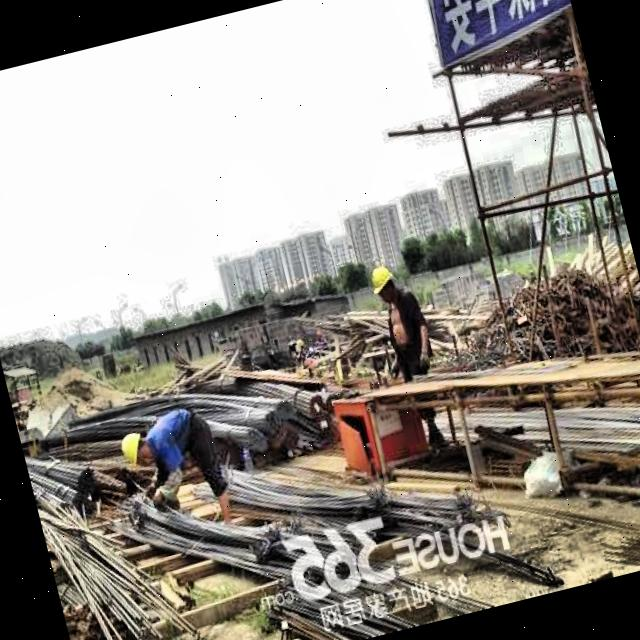helmet: (117, 426, 162, 473), (368, 260, 404, 310)
